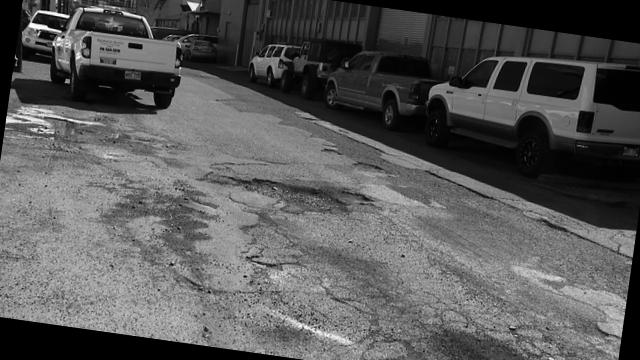Pothole: (221, 160, 388, 232)
